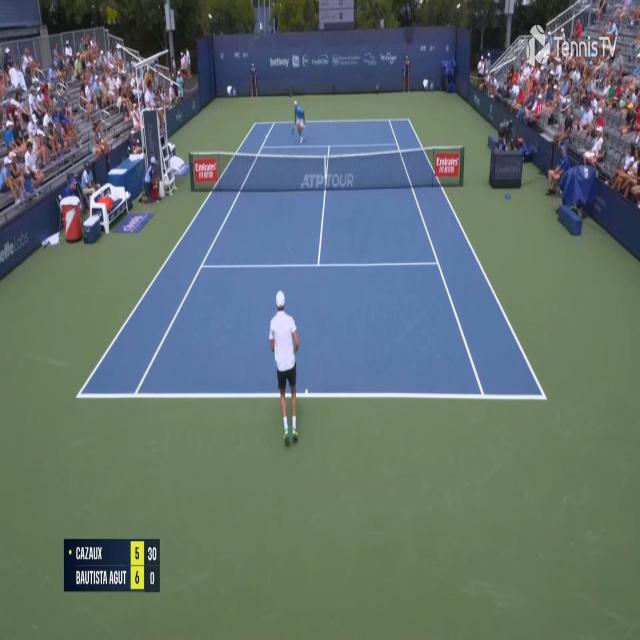tennis-player: (268, 288, 301, 443), (292, 98, 306, 143)
